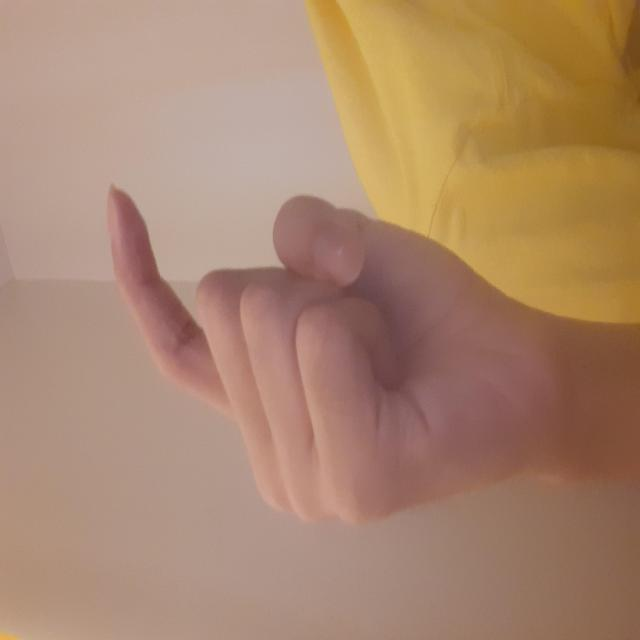X: (113, 106, 455, 537)
